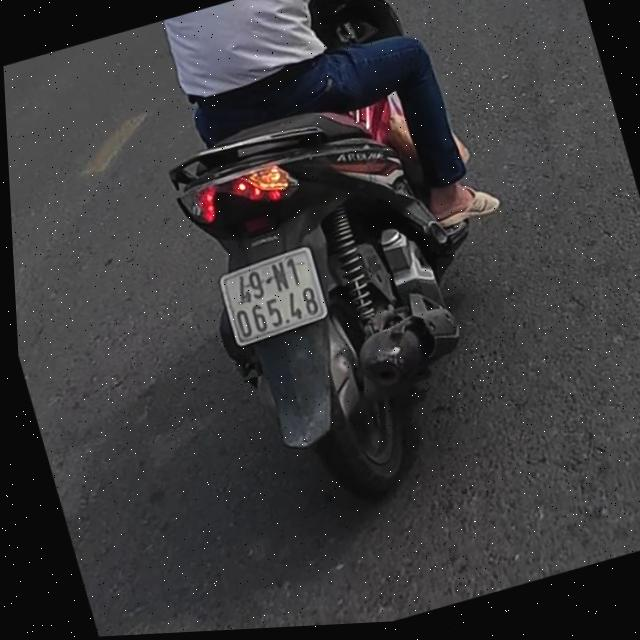motorcycle: (149, 66, 538, 524)
plate: (211, 243, 334, 346)
